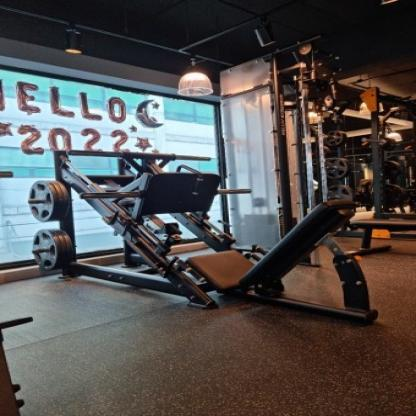leg press: (24, 140, 383, 331)
